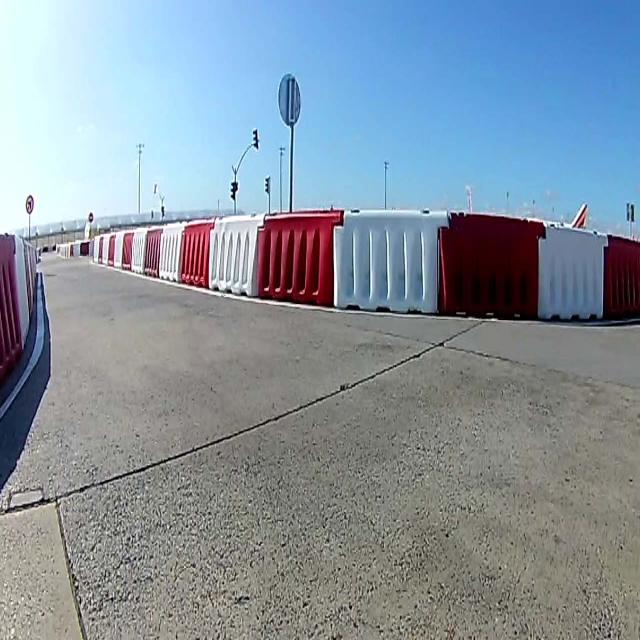soladonulmez: (26, 192, 34, 215)
